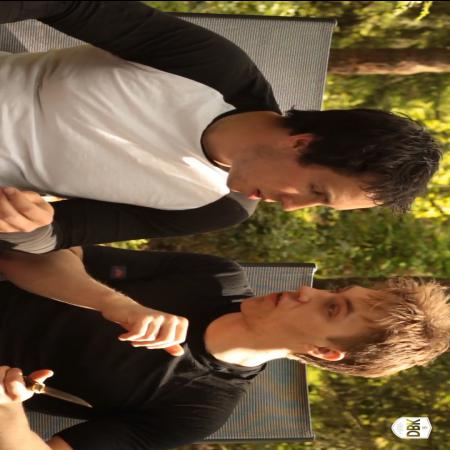long weapon: (1, 360, 104, 413)
